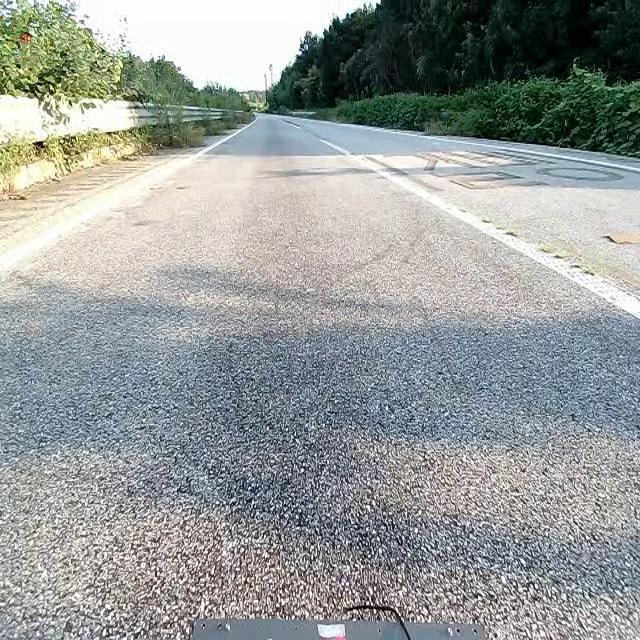Lane: (318, 125, 639, 333), (320, 139, 639, 319), (0, 112, 263, 283), (0, 126, 248, 286)
